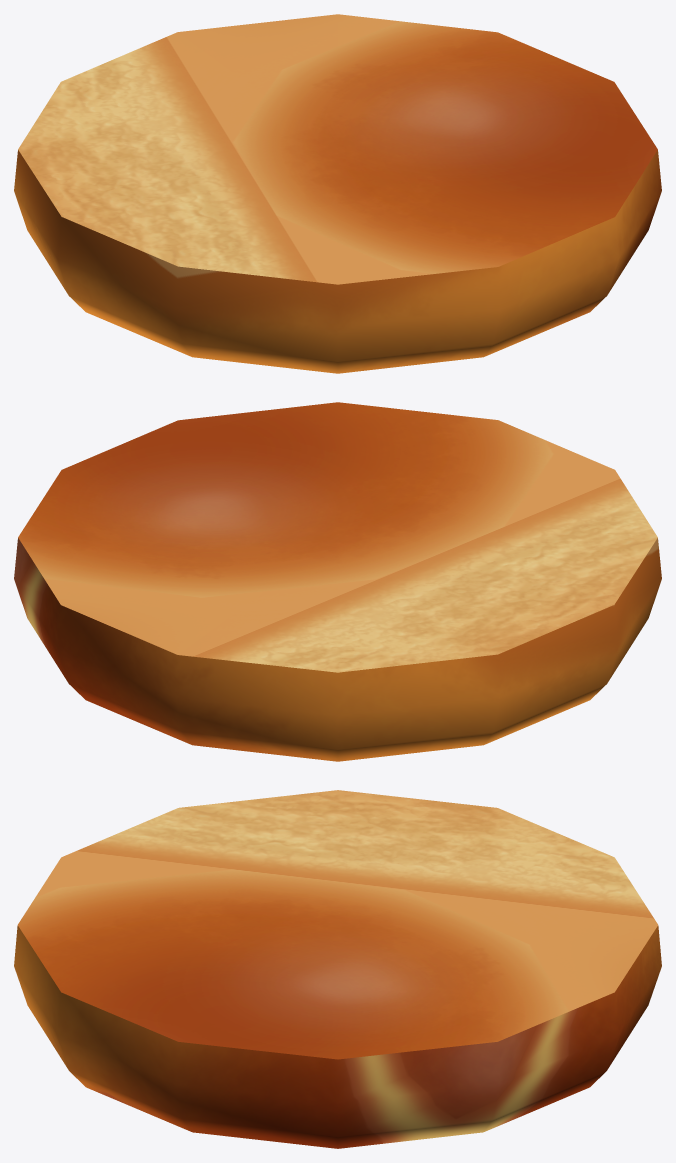
File: Bun_Burger_Seeds_Bottom.fbx
3 views of the same model, one above another, from view 1: azimuth 30°, elevation 25°; view 2: azimuth 150°, elevation 25°; view 3: azimuth 270°, elevation 25° (orthographic).
Visible parts, largest first — view 1: Bun_Burger_Seeds_Bottom; view 2: Bun_Burger_Seeds_Bottom; view 3: Bun_Burger_Seeds_Bottom.
Boxes of the visible parts, bbox=[...] form: Bun_Burger_Seeds_Bottom: bbox=[14, 14, 661, 373]; Bun_Burger_Seeds_Bottom: bbox=[14, 402, 661, 761]; Bun_Burger_Seeds_Bottom: bbox=[14, 790, 661, 1148].
Size of the model in its own units: 42.83 by 7.4 by 42.94.
